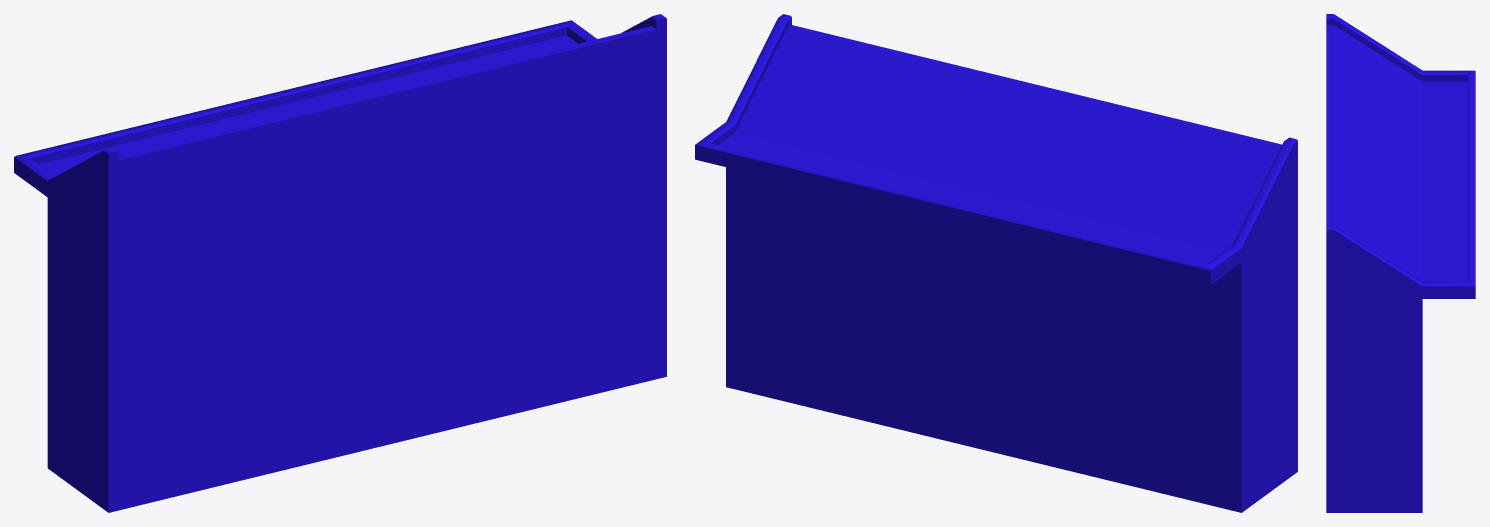
Rendered from stand1.fbx.
3 renders of one model, left to right at view 1: azimuth 30°, elevation 25°; view 2: azimuth 150°, elevation 25°; view 3: azimuth 270°, elevation 25°, orthographic. The views are drawn at different scales.
Visible parts, largest first — view 1: stand1; view 2: stand1; view 3: stand1.
Boxes of the visible parts, left/top/right/bottom form: stand1: left=14, top=14, right=666, bottom=512; stand1: left=695, top=14, right=1297, bottom=512; stand1: left=1326, top=14, right=1475, bottom=512.
Size of the model in its own units: 157 by 96.87 by 46.14.
